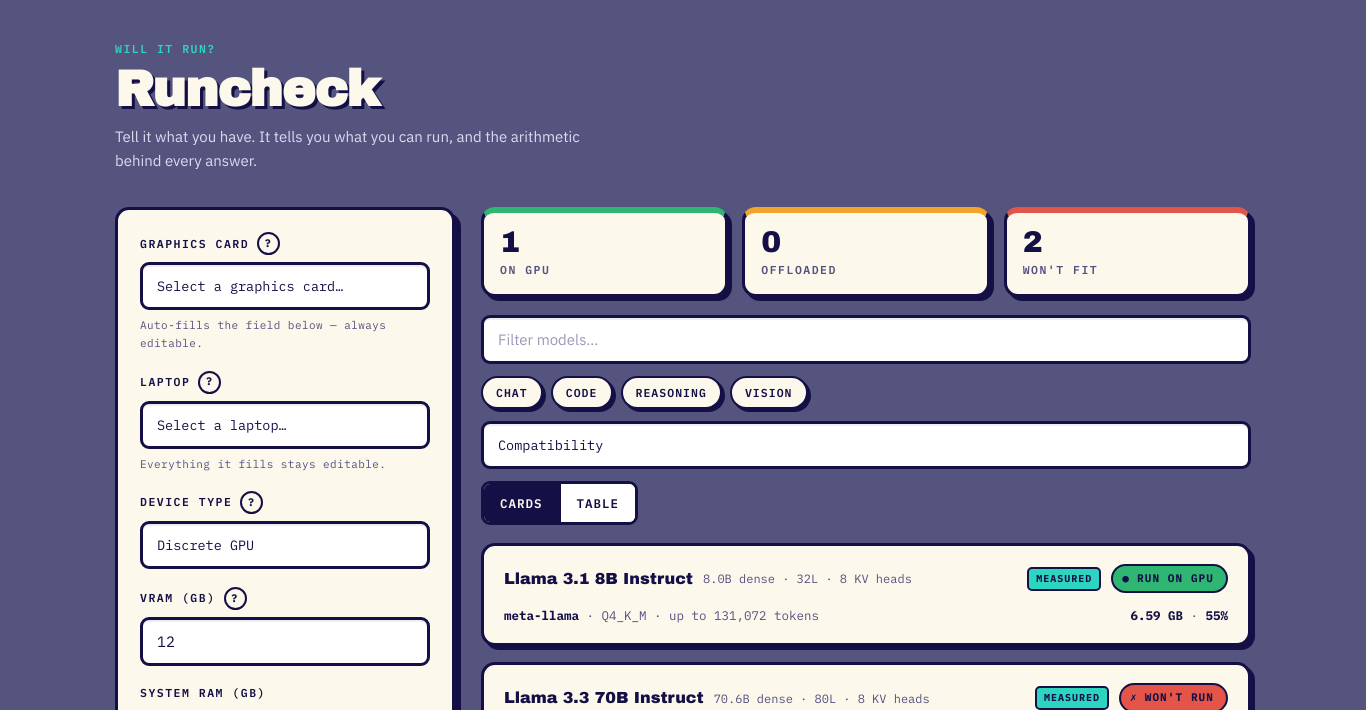
Test: CalculatorPage › re-scores live when VRAM changes
Expected: the text "Run on GPU" is shown, [1137,571,1214,585]
Replace the text in the number field labelled "VRAM (GB) ?" with "4" at (285, 642), box [140,617,430,666]
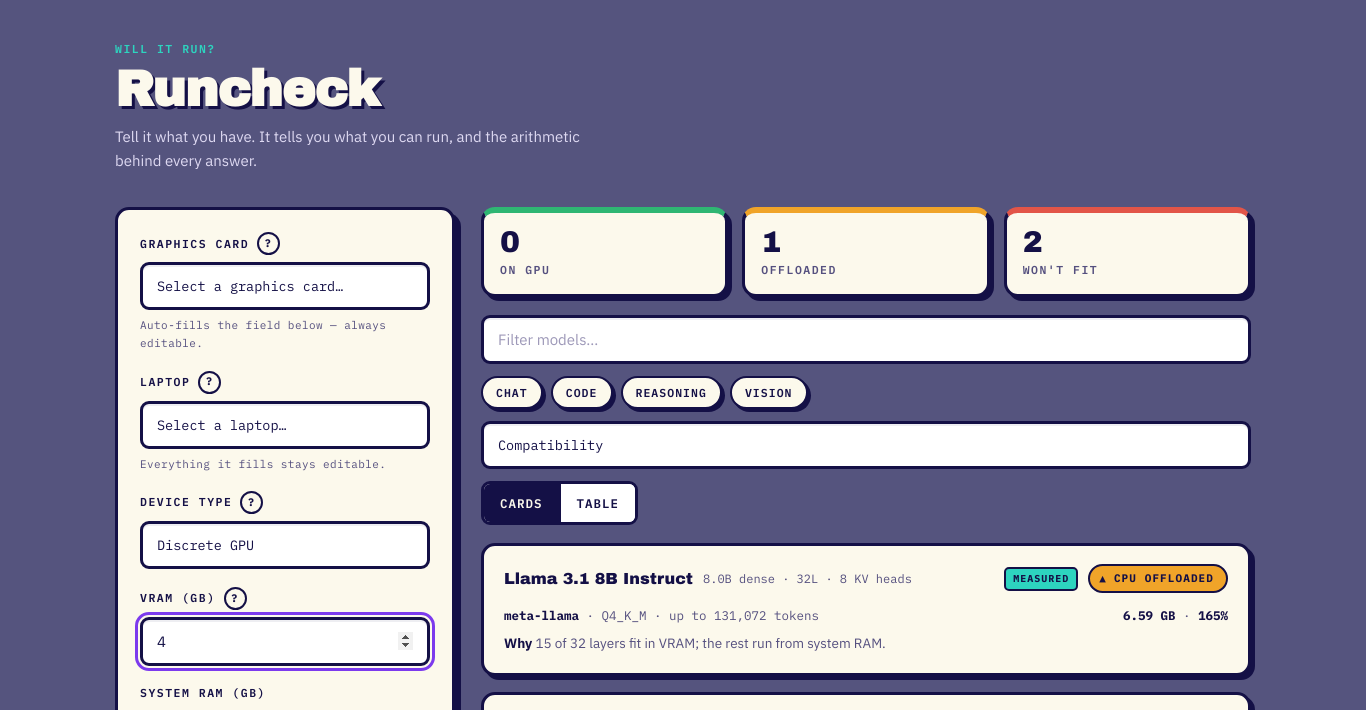
Now the text "Run on GPU" is gone
